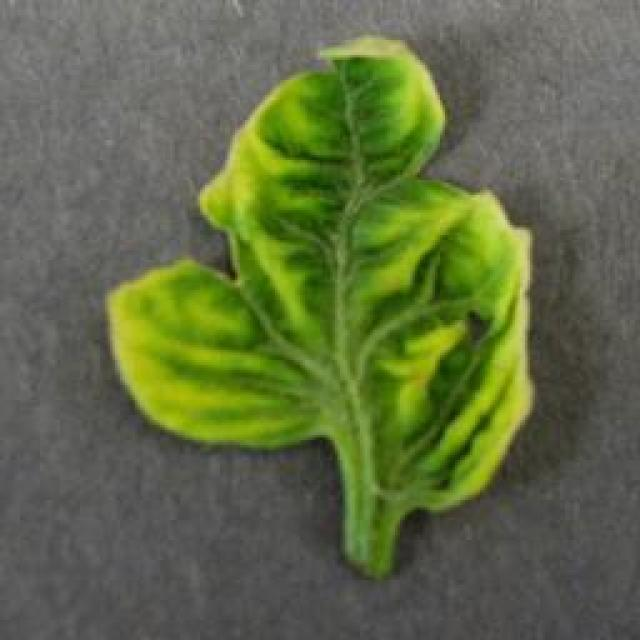Tomato yellow virus leaf: (91, 35, 536, 515)
